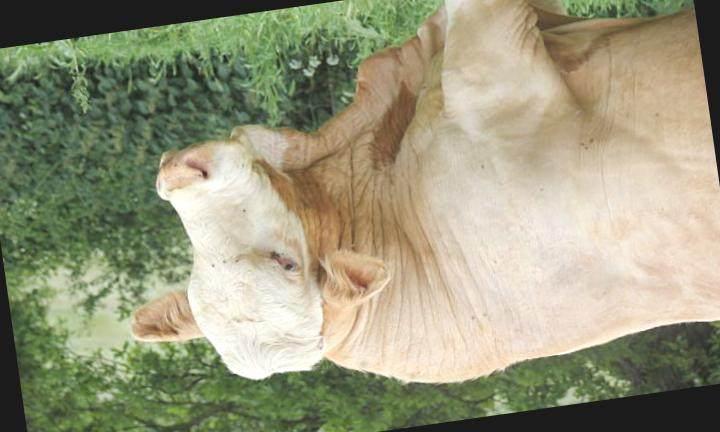Charolais: (131, 0, 720, 381)
